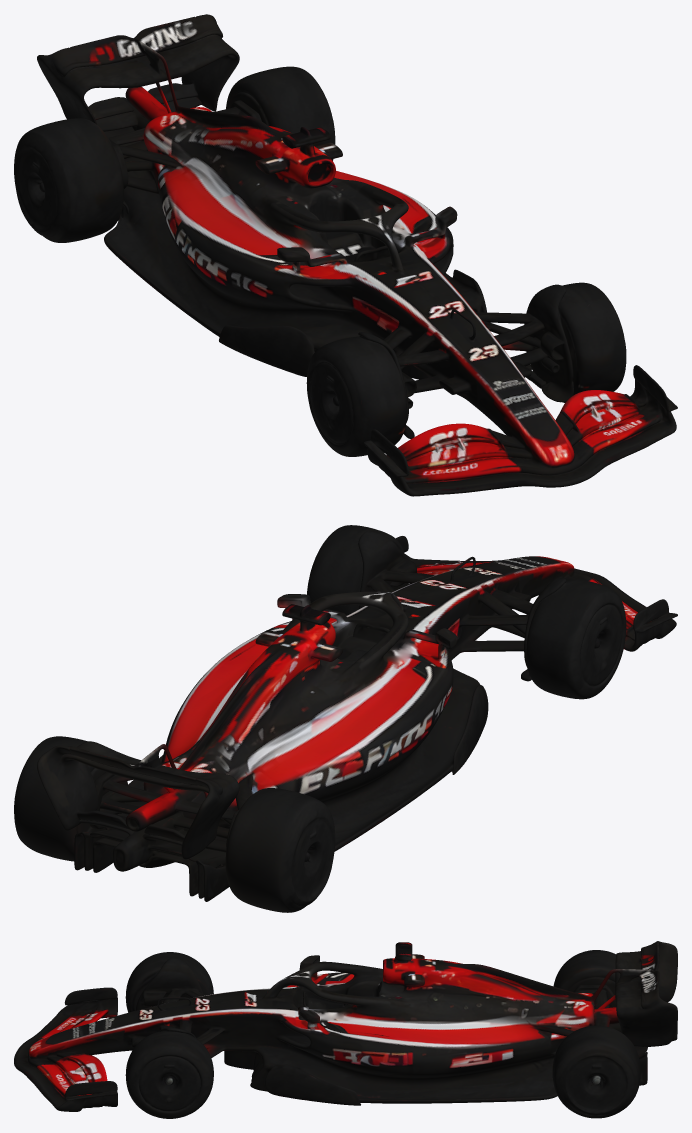
File: formula_one-v1.glb
3 views of the same model, one above another, from view 1: azimuth 30°, elevation 25°; view 2: azimuth 150°, elevation 25°; view 3: azimuth 270°, elevation 25° (orthographic). The views are drawn at different scales.
Visible parts, largest first — view 1: A_Racing_Car; view 2: A_Racing_Car; view 3: A_Racing_Car.
Part boxes in pixels (x1=…): A_Racing_Car: x1=14, y1=14, x2=677, y2=496; A_Racing_Car: x1=14, y1=525, x2=677, y2=912; A_Racing_Car: x1=14, y1=941, x2=677, y2=1118.
Bounding box in the file's own units: 0.4191 × 0.2527 × 1.17.
Materials: 1 (1 with a texture image).
